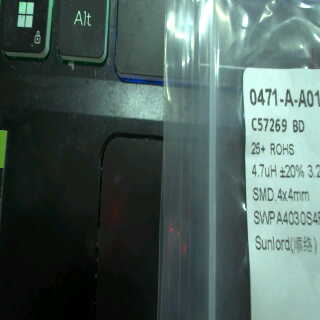4.7uH: (247, 158, 279, 179)
